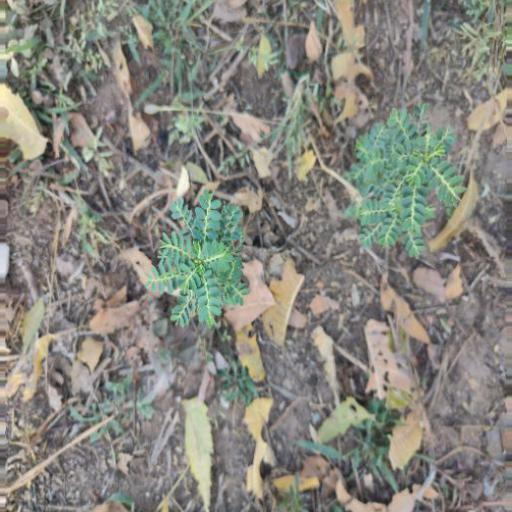weed: (139, 163, 268, 357), (342, 101, 471, 292)
